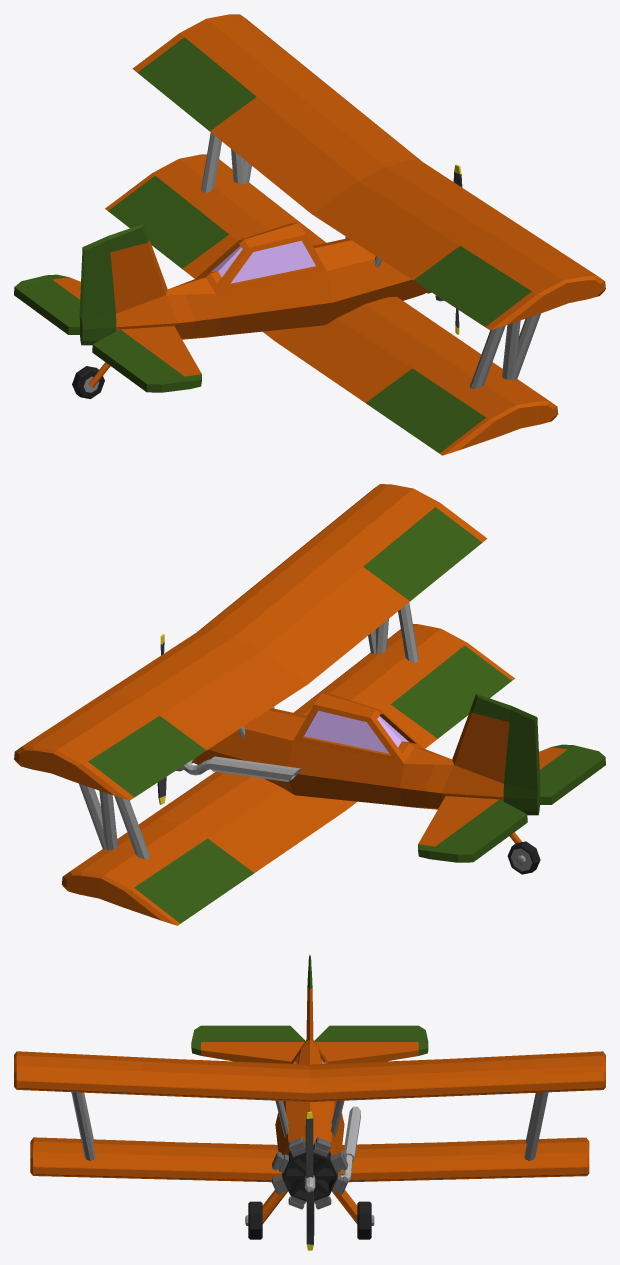
3 views of the same model, one above another, from view 1: azimuth 30°, elevation 25°; view 2: azimuth 150°, elevation 25°; view 3: azimuth 270°, elevation 25° (orthographic). The views are drawn at different scales.
Parts seen in each view (by area): view 1: Fuselage, Elevator, Flap_R, Aileron_Upper_L, Aileron_Lower_L, Aileron_Lower_R, Aileron_Upper_R, Rudder, Flap_L, Rudder_Wheel; view 2: Fuselage, Elevator, Flap_L, Aileron_Upper_R, Aileron_Lower_R, Aileron_Lower_L, Aileron_Upper_L, Rudder, Flap_R, Rudder_Wheel; view 3: Fuselage, Elevator, Propeller, Wheel_R, Wheel_L.
Boxes of the visible parts, left/top/right/bottom form: Fuselage: left=52, top=14, right=605, bottom=455; Elevator: left=14, top=274, right=201, bottom=392; Flap_R: left=274, top=318, right=411, bottom=402; Aileron_Upper_L: left=137, top=37, right=256, bottom=131; Aileron_Lower_L: left=108, top=175, right=228, bottom=268; Aileron_Lower_R: left=366, top=368, right=485, bottom=453; Aileron_Upper_R: left=413, top=245, right=531, bottom=326; Rudder: left=79, top=224, right=149, bottom=345; Flap_L: left=182, top=234, right=289, bottom=340; Rudder_Wheel: left=72, top=366, right=104, bottom=398; Fuselage: left=14, top=484, right=567, bottom=925; Elevator: left=418, top=744, right=605, bottom=862; Flap_L: left=208, top=788, right=345, bottom=872; Aileron_Upper_R: left=363, top=507, right=482, bottom=601; Aileron_Lower_R: left=391, top=645, right=511, bottom=738; Aileron_Lower_L: left=134, top=838, right=253, bottom=923; Aileron_Upper_L: left=88, top=716, right=206, bottom=797; Rudder: left=470, top=694, right=540, bottom=815; Flap_R: left=330, top=704, right=437, bottom=810; Rudder_Wheel: left=507, top=841, right=540, bottom=874; Fuselage: left=14, top=988, right=605, bottom=1223; Elevator: left=191, top=1025, right=428, bottom=1055; Propeller: left=304, top=1111, right=315, bottom=1250; Wheel_R: left=245, top=1201, right=262, bottom=1239; Wheel_L: left=357, top=1201, right=374, bottom=1239.
Size of the model in its own units: 3.79 by 2.03 by 5.95.
1 material, 1 textured.
